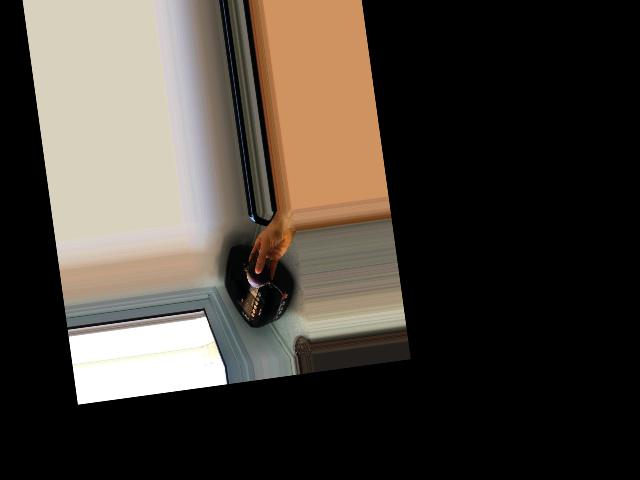beet: (241, 250, 283, 299)
